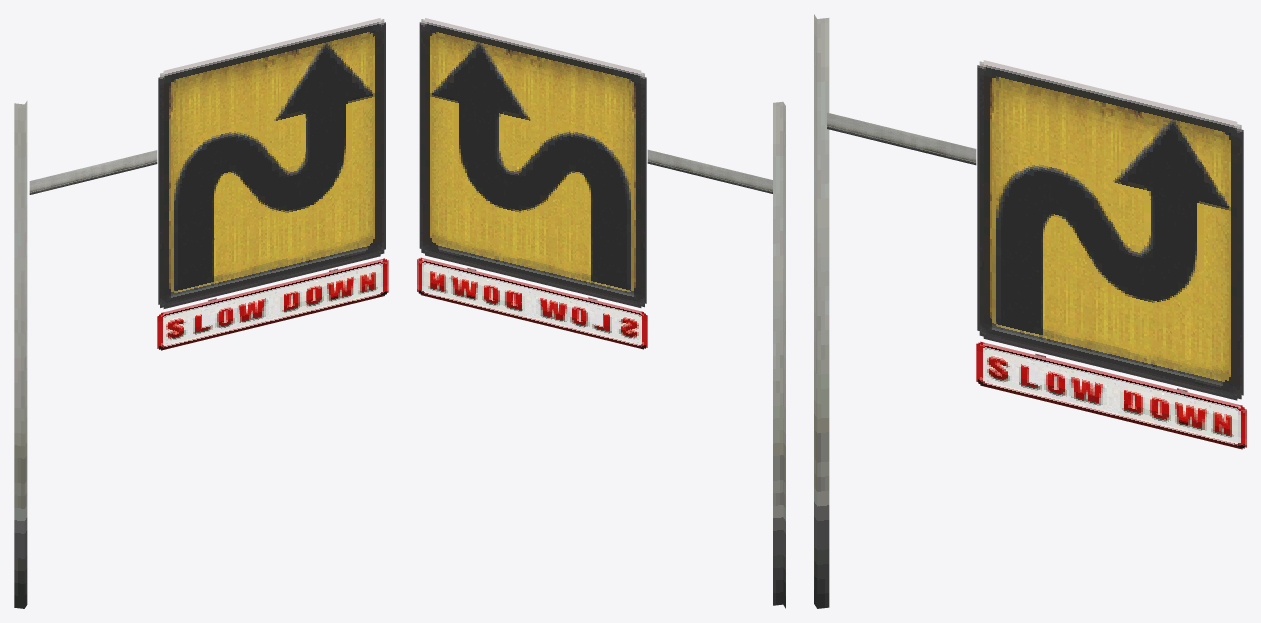
The model's file is stage-newy-p7-7.glb.
The picture shows the model from 3 angles, left to right: view 1: azimuth 30°, elevation 25°; view 2: azimuth 150°, elevation 25°; view 3: azimuth 330°, elevation 25°; orthographic projection. The views are drawn at different scales.
Bounding box in the file's own units: 8.04 × 10.41 × 0.1415.
Materials: 3 (3 with a texture image).
